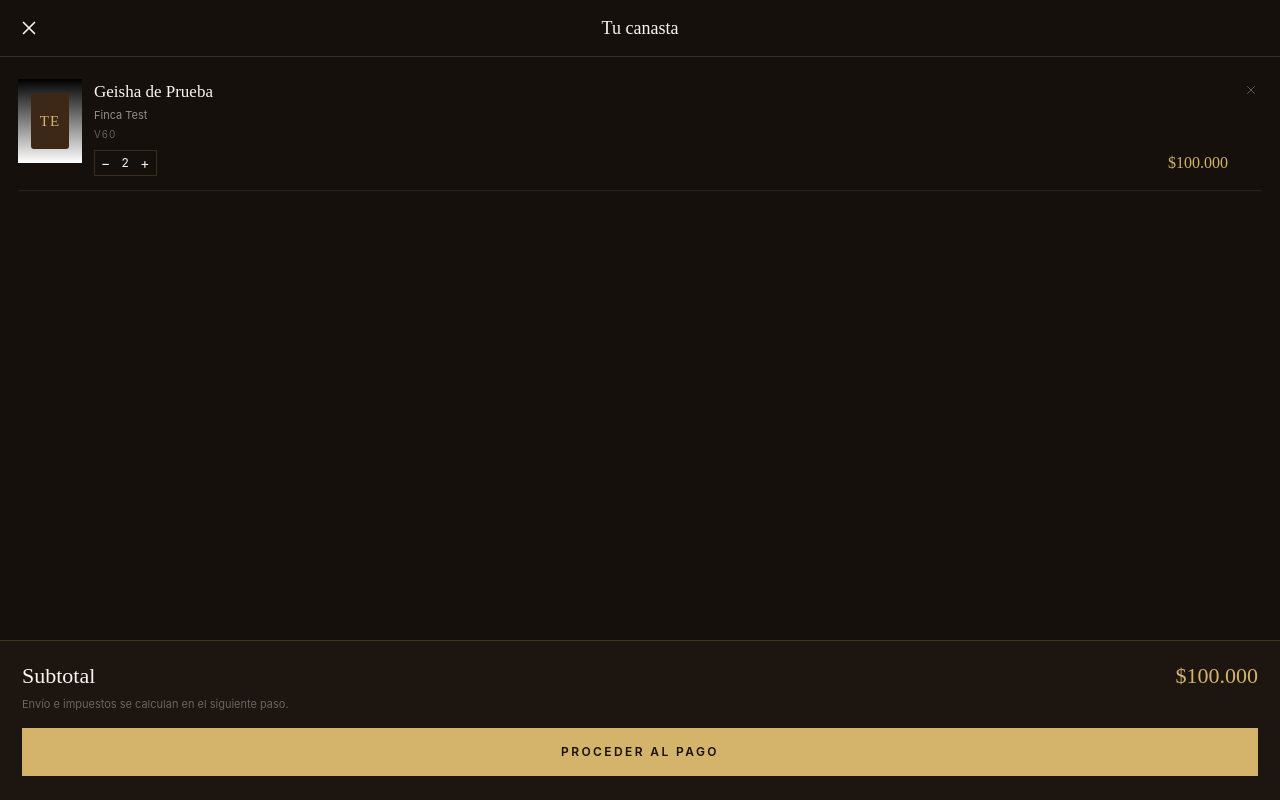
Test: CartView — checkout › suma el costo del envío elegido al total
The width and height of the screenshot is (1280, 800).
Click the button "PROCEDER AL PAGO" at (640,752), box [22, 728, 1258, 776]
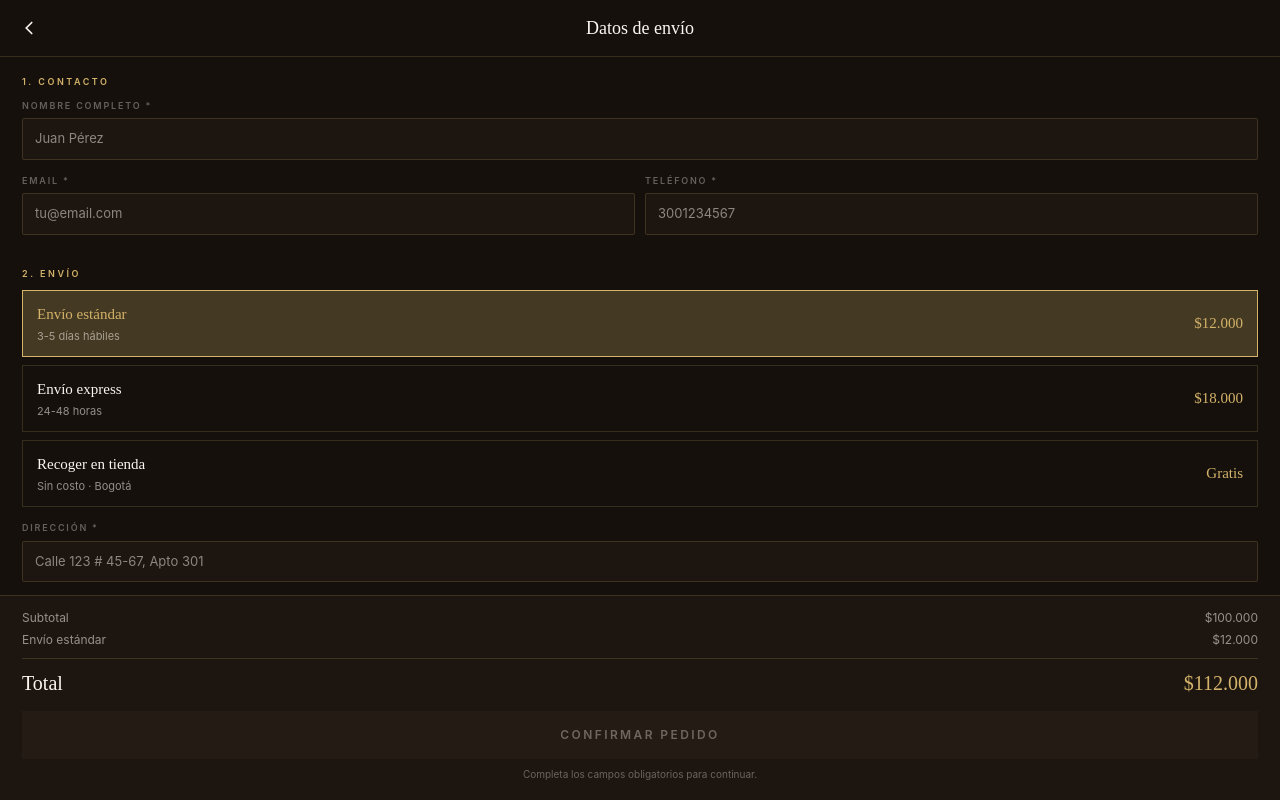
Click the text "Envío express" at (79,389), box [37, 378, 122, 400]
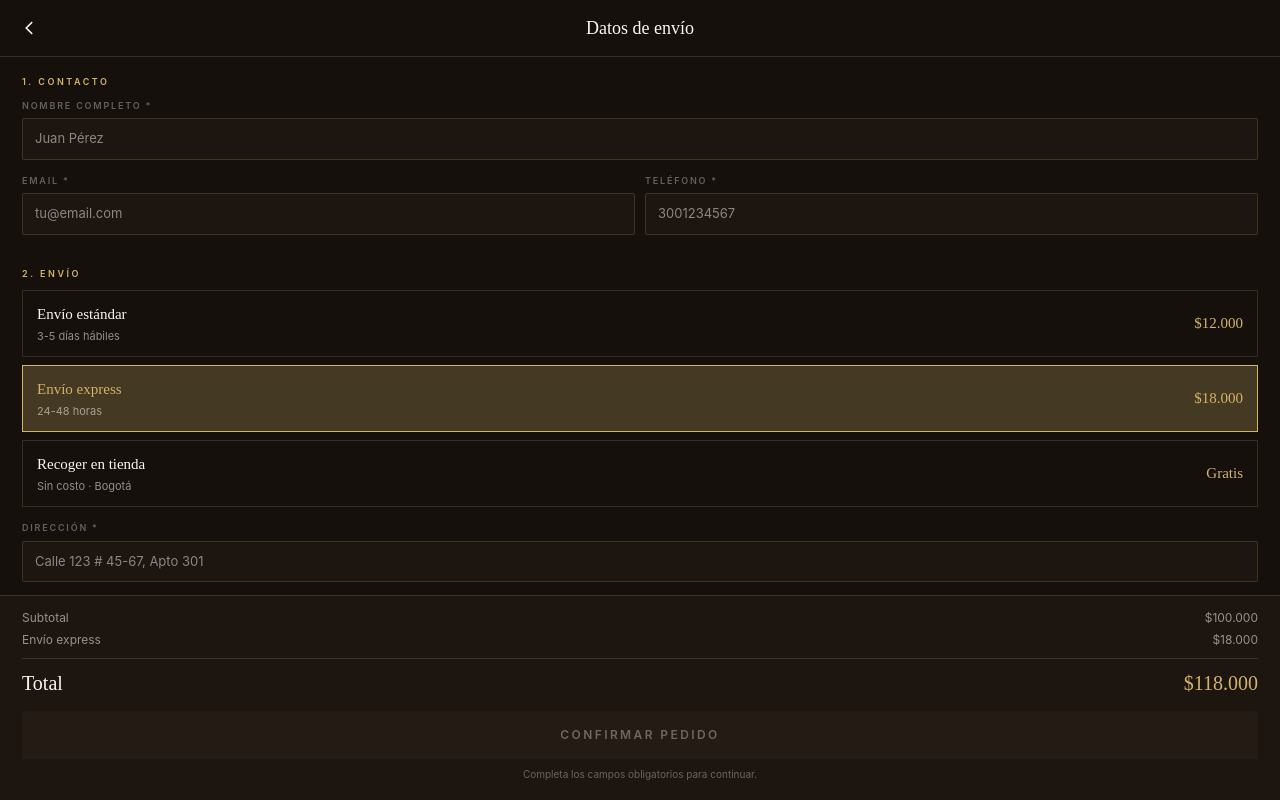
Check: the text "$118.000" is shown, box [1184, 669, 1258, 697]
